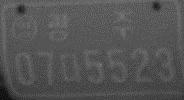0: (14, 51, 36, 88)
2: (130, 46, 152, 83)
3: (155, 46, 177, 84)
5: (106, 49, 128, 84), (84, 49, 105, 85)
7: (37, 50, 56, 87)
광주_D: (46, 10, 134, 41)
다: (59, 51, 82, 83)
영: (11, 13, 40, 43)
